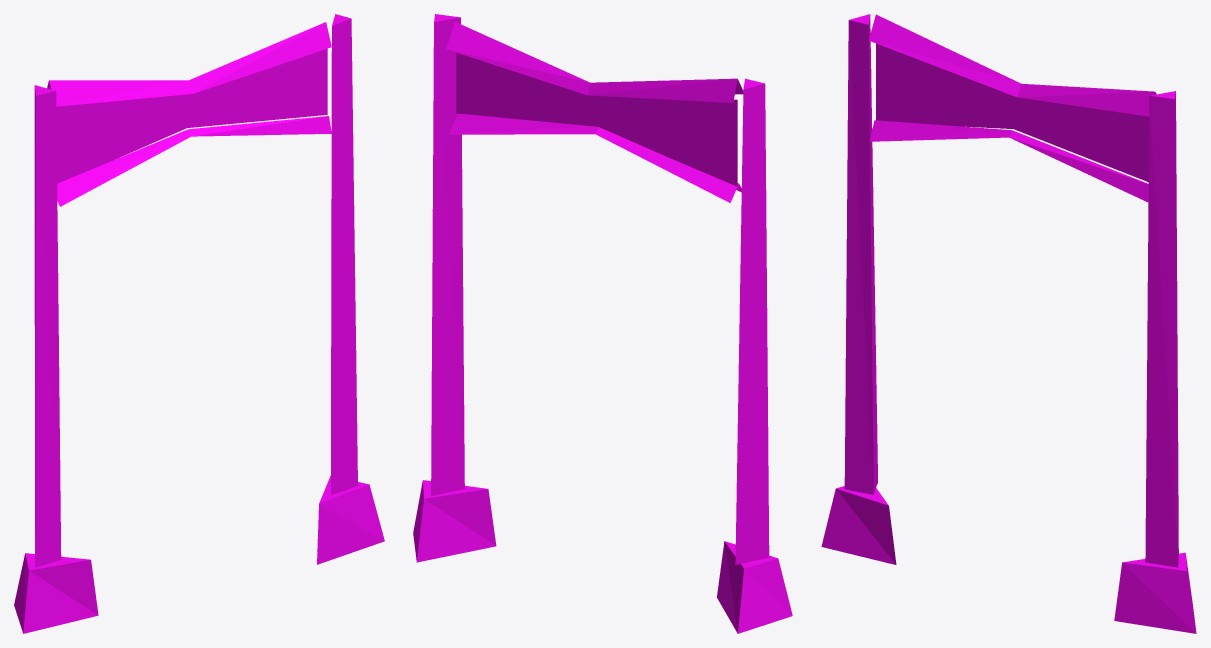
Rendered from gnomesign.obj.
3 renders of one model, left to right at view 1: azimuth 30°, elevation 25°; view 2: azimuth 150°, elevation 25°; view 3: azimuth 330°, elevation 25°, orthographic.
Parts seen in each view (by area): view 1: gnomesign_back; view 2: gnomesign_back; view 3: gnomesign_back.
Boxes of the visible parts, x1,y1,x2,y2 form: gnomesign_back: [14, 14, 384, 633]; gnomesign_back: [413, 14, 792, 633]; gnomesign_back: [821, 14, 1196, 633].
Size of the model in its own units: 1.47 by 2.04 by 0.25.
